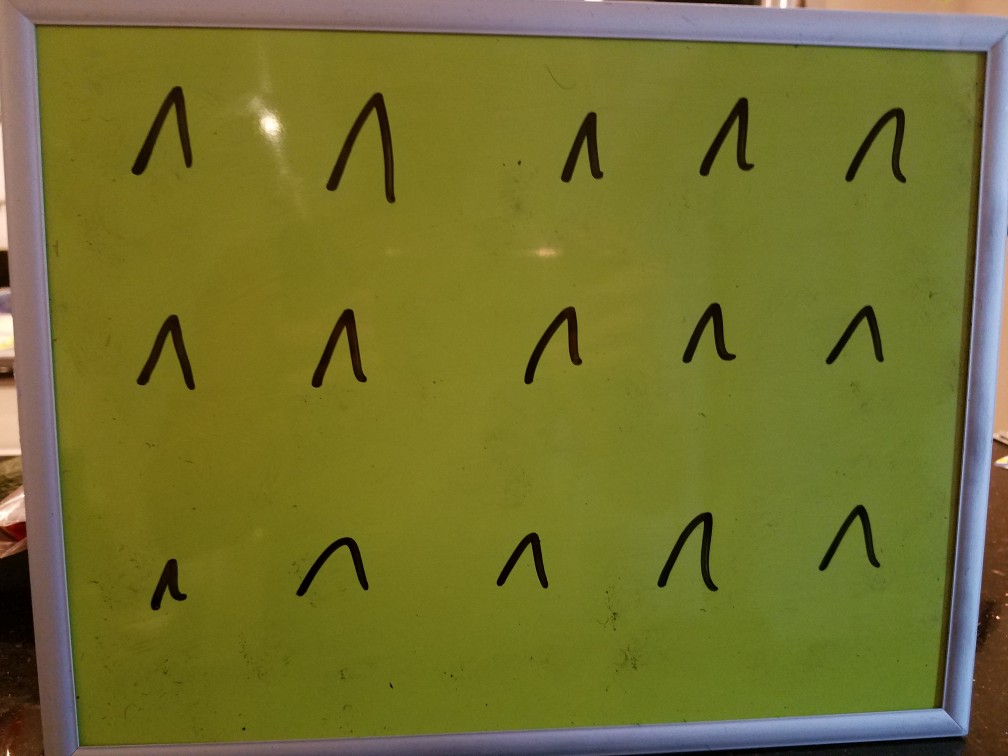^: (671, 68, 780, 210), (492, 287, 606, 412), (307, 73, 413, 205), (118, 59, 215, 200), (824, 87, 921, 211), (283, 279, 371, 410), (658, 275, 751, 393), (534, 95, 624, 210), (646, 495, 738, 603), (120, 297, 207, 405), (282, 523, 382, 611), (813, 288, 898, 383), (124, 539, 213, 623), (813, 487, 888, 585), (491, 517, 557, 604)
